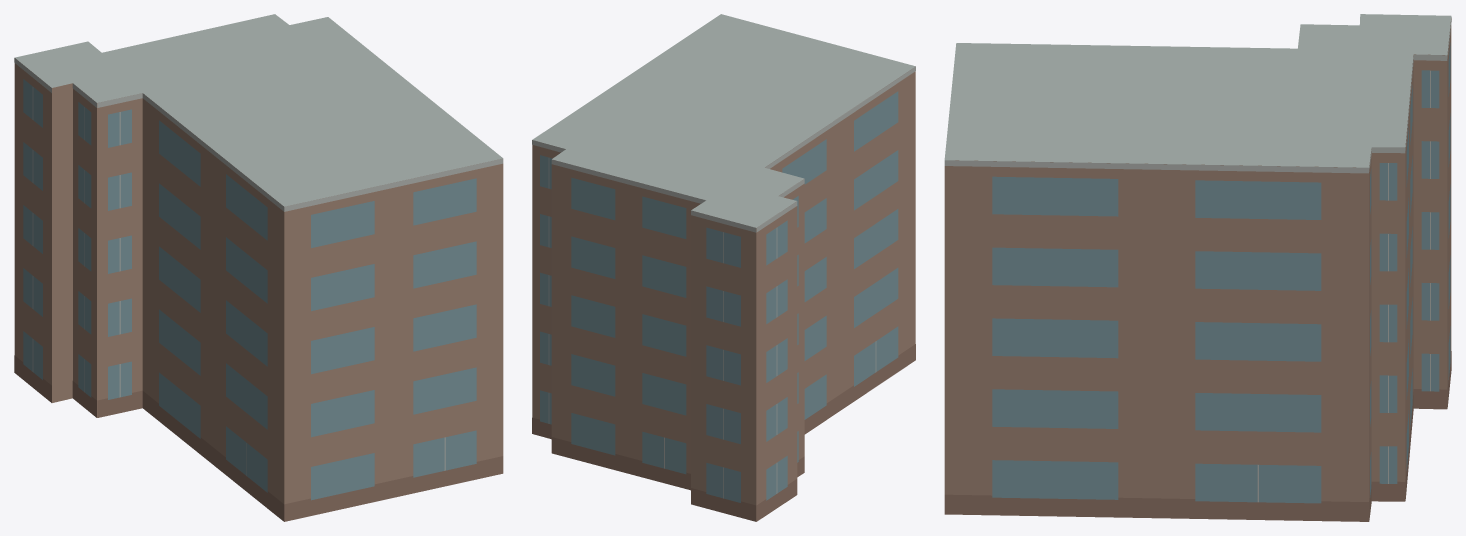
The model's file is survey-upis-32671890.glb.
3 renders of one model, left to right at view 1: azimuth 30°, elevation 25°; view 2: azimuth 150°, elevation 25°; view 3: azimuth 270°, elevation 25°, orthographic. The views are drawn at different scales.
Visible parts, largest first — view 1: survey-upis-32671890.tmp; view 2: survey-upis-32671890.tmp; view 3: survey-upis-32671890.tmp.
Part boxes in pixels (x1=…): survey-upis-32671890.tmp: x1=14, y1=14, x2=503, y2=521; survey-upis-32671890.tmp: x1=532, y1=14, x2=915, y2=521; survey-upis-32671890.tmp: x1=944, y1=14, x2=1451, y2=521.
Size of the model in its own units: 13.87 by 14.9 by 19.34.
